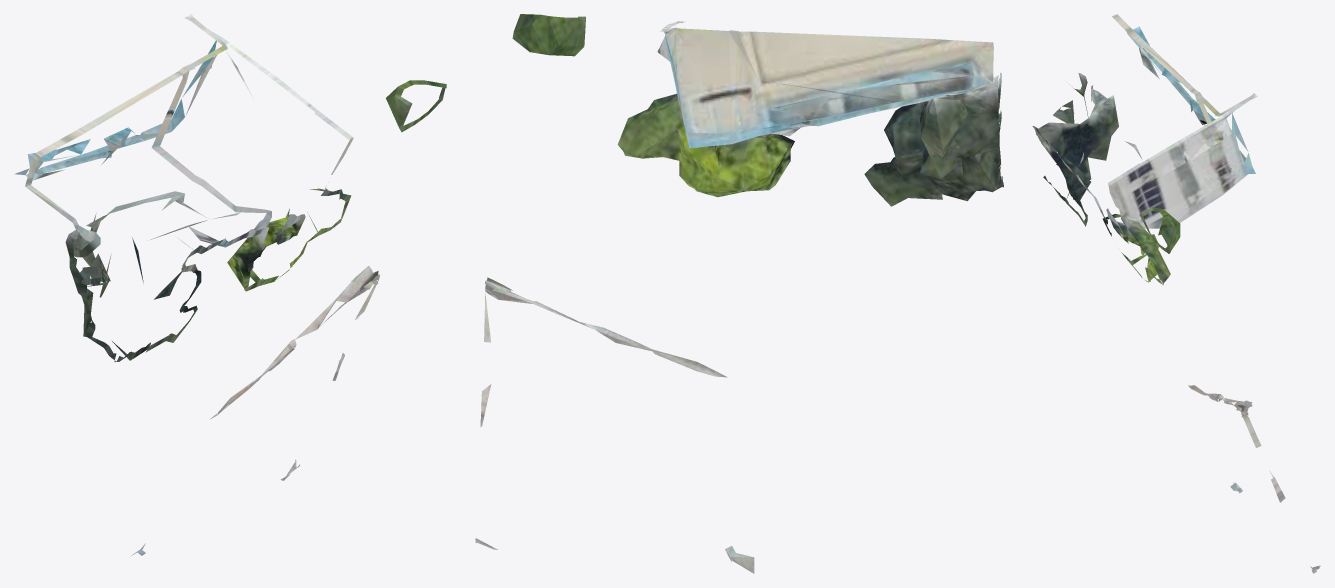
Rendered from AJVsH2yicV_RoNBl7YxrVITX1nBUdvGYm6XsMbaenTUr8wa0gANAdA41NujZP7Ca5e88pulwwz41qwJ7Bj8-2S6XJiV9SzM3MaEzYx7giy6bvAnop9WFVGLimo56n8x48f-5ISdIH1rDh5YGYwoUOot-N5ql.glb.
3 renders of one model, left to right at view 1: azimuth 30°, elevation 25°; view 2: azimuth 150°, elevation 25°; view 3: azimuth 270°, elevation 25°, orthographic. The views are drawn at different scales.
Bounding box in the file's own units: 36.15 × 40.59 × 24.73.
1 material, 1 textured.
